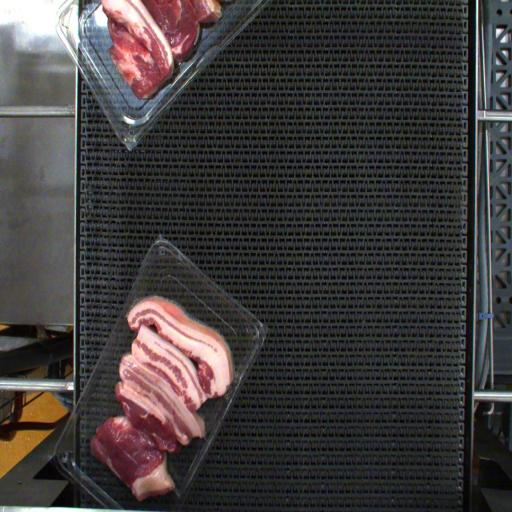packaging-error: (120, 294, 154, 320)
twisted-meat: (100, 418, 173, 498)
